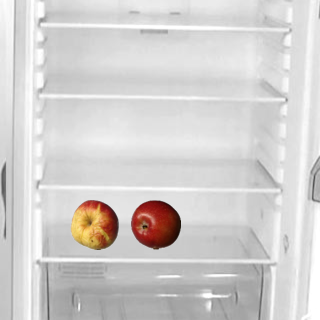Apple Braeburn: (130, 199, 180, 249)
Apple Red Yellow 1: (69, 199, 119, 249)
